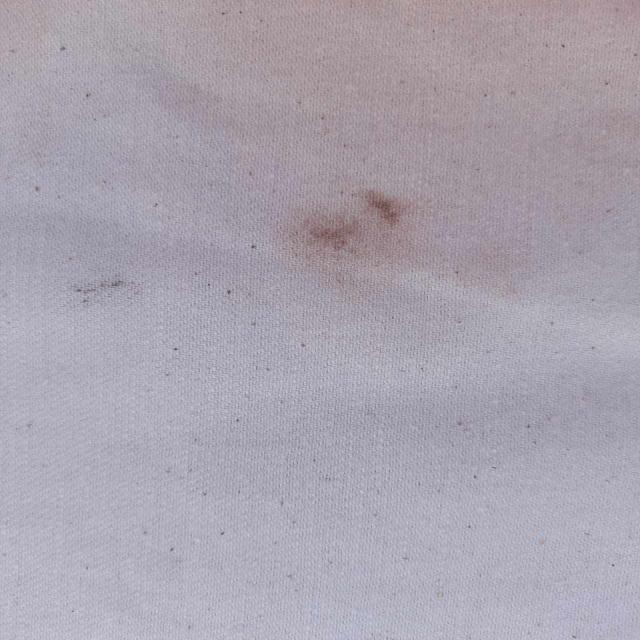taaaches: (276, 172, 418, 265), (54, 270, 134, 310)
